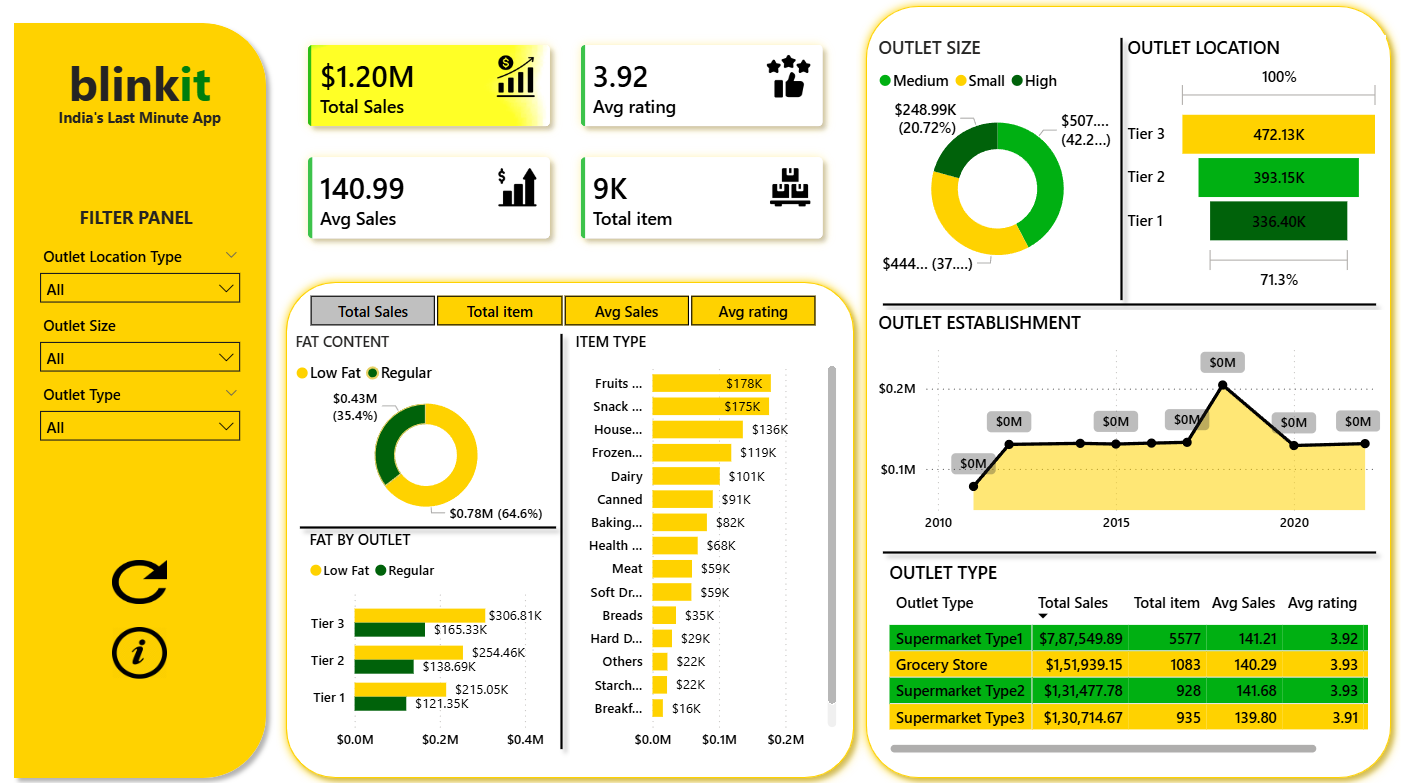

The dashboard page shown, as its layout file describes it:
{"tool":"powerbi","page":{"name":"Page 1","canvas":[1280,720],"ordinal":0},"visuals":[{"type":"shape","box":[10,15.5,247.3,704.5],"z":0},{"type":"textbox","box":[47.3,44.6,172.3,89.3],"z":1000},{"type":"textbox","box":[47.3,96.4,172.3,89.3],"z":2000},{"type":"cardVisual","fields":{"Data":["BlinkIT Grocery Data.Total Sales","BlinkIT Grocery Data.Avg rating","BlinkIT Grocery Data.Avg Sales","BlinkIT Grocery Data.Total item"]},"box":[257.3,15.5,527.3,235.5],"z":3000},{"type":"shape","box":[257.3,250.9,534.5,469.1],"z":4000},{"type":"donutChart","title":"FAT CONTENT","fields":{"Y":["BlinkIT Grocery Data.Total Sales"],"Category":["BlinkIT Grocery Data.Item Fat Content"]},"box":[270,305.5,247.3,178.2],"z":5000},{"type":"slicer","fields":{"Values":["Parameter2.Parameter2"]},"box":[262.7,265.5,509.1,40],"z":6000},{"type":"clusteredBarChart","title":"FAT BY OUTLET","fields":{"Y":["BlinkIT Grocery Data.Total Sales"],"Category":["BlinkIT Grocery Data.Outlet Location Type"],"Series":["BlinkIT Grocery Data.Item Fat Content"]},"box":[282.7,485.5,239.1,208.2],"z":7000},{"type":"slicer","title":"ITEM TYPE","fields":{"Values":["BlinkIT Grocery Data.Outlet Location Type"]},"box":[32.7,222.7,201.8,62.7],"z":8000},{"type":"shape","box":[270,368.2,250.9,230],"z":9000},{"type":"shape","box":[403.6,298.2,226.4,395.5],"z":10000},{"type":"shape","box":[784.5,0,495.5,720],"z":11000},{"type":"donutChart","title":"OUTLET SIZE","fields":{"Category":["BlinkIT Grocery Data.Outlet Size"],"Y":["BlinkIT Grocery Data.Total Sales"]},"box":[800,35.5,226.4,230],"z":12000},{"type":"funnel","title":"OUTLET LOCATION","fields":{"Category":["BlinkIT Grocery Data.Outlet Location Type"],"Y":["Sum(BlinkIT Grocery Data.Sales)"]},"box":[1026.4,35.5,240,238.2],"z":13000},{"type":"shape","box":[800,165.5,466.4,230],"z":14000},{"type":"shape","box":[912.7,29.1,226.4,256.4],"z":15000},{"type":"lineChart","title":"OUTLET ESTABLISHMENT","fields":{"Y":["BlinkIT Grocery Data.Total Sales"],"Category":["BlinkIT Grocery Data.Outlet Establishment Year"]},"box":[800,285.5,466.4,210.9],"z":16000},{"type":"pivotTable","title":"OUTLET TYPE","fields":{"Values":["BlinkIT Grocery Data.Total Sales","BlinkIT Grocery Data.Total item","BlinkIT Grocery Data.Avg Sales","BlinkIT Grocery Data.Avg rating","Avg(BlinkIT Grocery Data.Item Visibility)"],"Rows":["BlinkIT Grocery Data.Outlet Type"]},"box":[810,512.7,444.5,180.9],"z":17000},{"type":"shape","box":[800,390.9,466.4,230],"z":18000},{"type":"slicer","title":"ITEM TYPE","fields":{"Values":["BlinkIT Grocery Data.Outlet Type"]},"box":[32.7,348.2,201.8,62.7],"z":19000},{"type":"slicer","title":"ITEM TYPE","fields":{"Values":["BlinkIT Grocery Data.Outlet Size"]},"box":[32.7,285.5,201.8,62.7],"z":19001},{"type":"barChart","title":"ITEM TYPE","fields":{"Category":["BlinkIT Grocery Data.Item Type"],"Y":["BlinkIT Grocery Data.Total Sales"]},"box":[524.5,305.5,247.3,388.2],"z":19002},{"type":"actionButton","box":[108.2,512.7,50,40],"z":19004},{"type":"textbox","box":[73.6,185.5,120,37.3],"z":19006},{"type":"actionButton","box":[108.2,573.6,50,47.3],"z":19007}]}

Visuals, with their boxes in screenshot pixels (x1, y1, x2, y2), scaled from the page's 1280x720 canvas onto the 1401x783 screenshot:
shape: crop(11, 17, 282, 782)
textbox: crop(52, 49, 240, 146)
textbox: crop(52, 105, 240, 202)
cardVisual - BlinkIT Grocery Data.Total Sales x BlinkIT Grocery Data.Avg rating: crop(282, 17, 859, 273)
shape: crop(282, 273, 867, 782)
"FAT CONTENT" donutChart: crop(296, 332, 566, 526)
slicer - Parameter2.Parameter2: crop(288, 289, 845, 332)
"FAT BY OUTLET" clusteredBarChart: crop(309, 528, 571, 754)
"ITEM TYPE" slicer: crop(36, 242, 257, 310)
shape: crop(296, 400, 570, 651)
shape: crop(442, 324, 690, 754)
shape: crop(859, 0, 1400, 782)
"OUTLET SIZE" donutChart: crop(876, 39, 1123, 289)
"OUTLET LOCATION" funnel: crop(1123, 39, 1386, 298)
shape: crop(876, 180, 1386, 430)
shape: crop(999, 32, 1247, 310)
"OUTLET ESTABLISHMENT" lineChart: crop(876, 310, 1386, 540)
"OUTLET TYPE" pivotTable: crop(887, 558, 1373, 754)
shape: crop(876, 425, 1386, 675)
"ITEM TYPE" slicer: crop(36, 379, 257, 447)
"ITEM TYPE" slicer: crop(36, 310, 257, 379)
"ITEM TYPE" barChart: crop(574, 332, 845, 754)
actionButton: crop(118, 558, 173, 601)
textbox: crop(81, 202, 212, 242)
actionButton: crop(118, 624, 173, 675)
